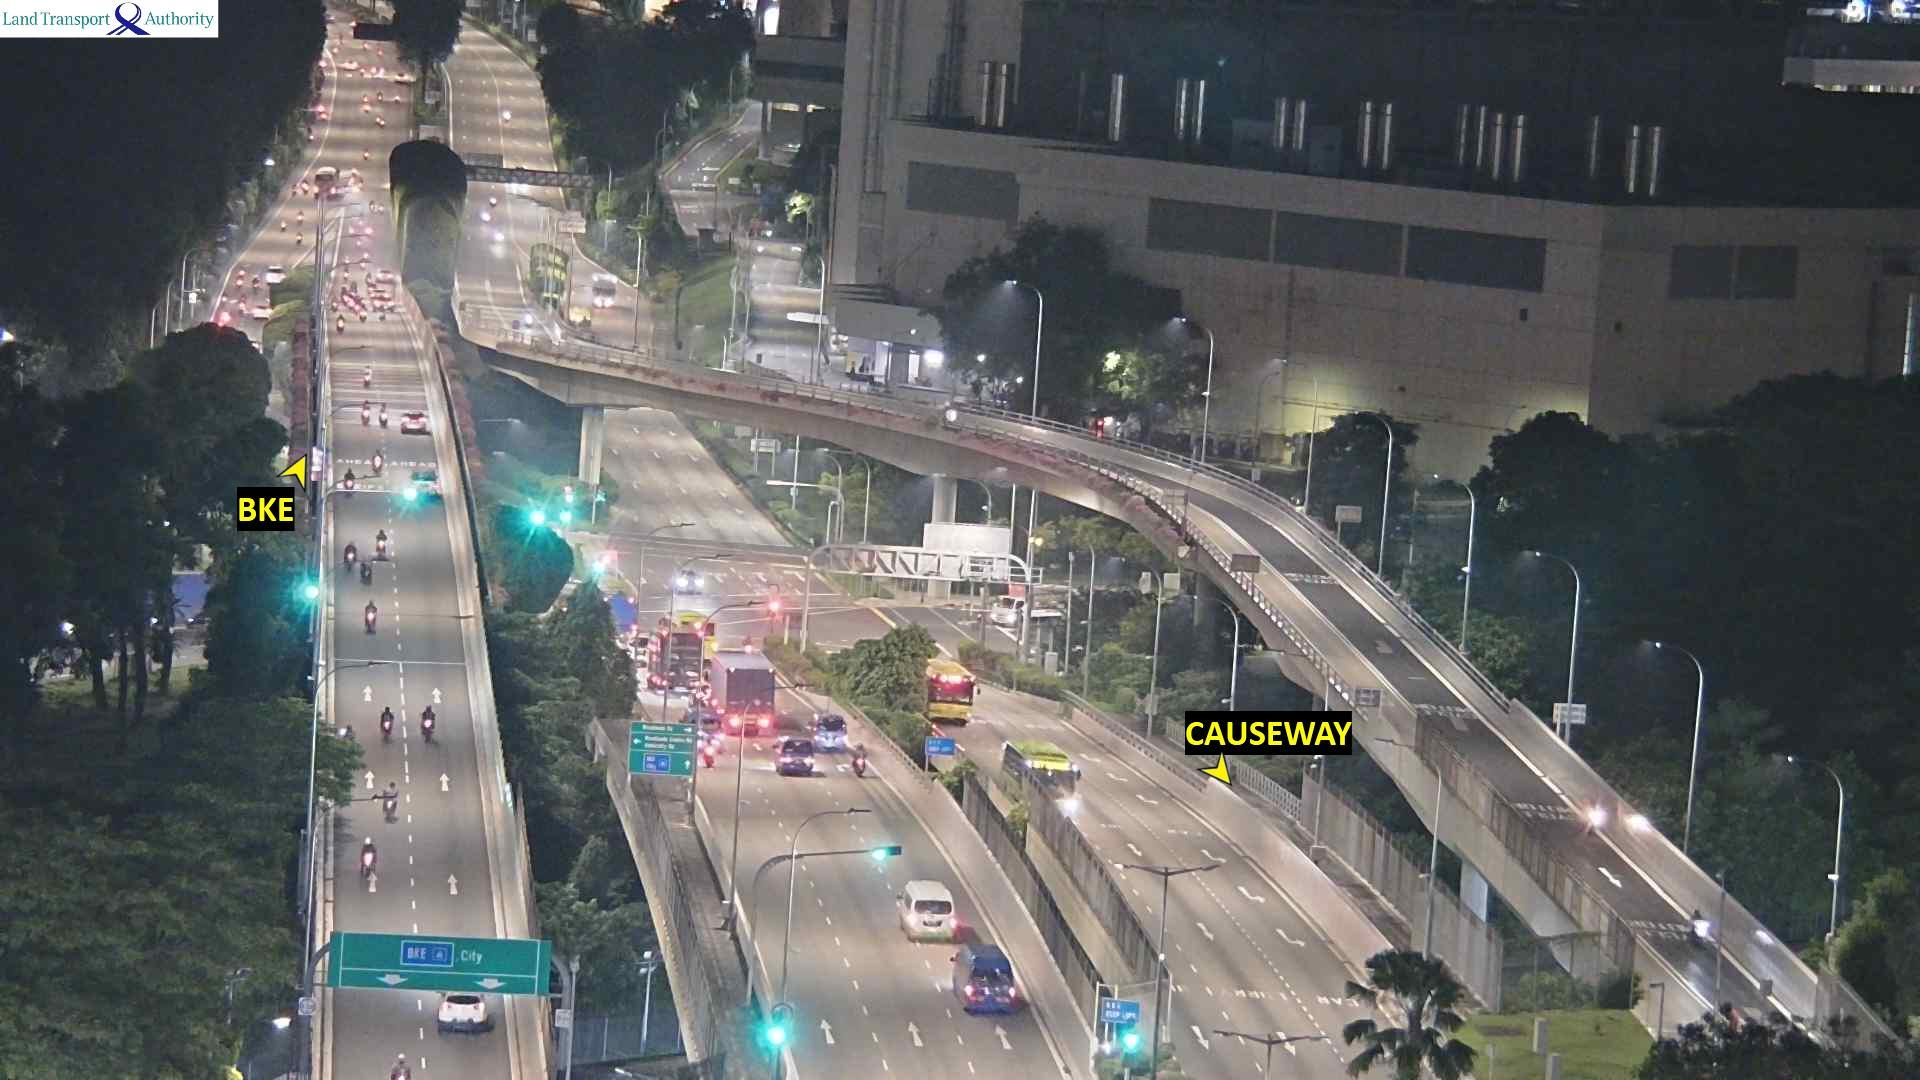vehicle-causeway-johor: (1004, 742, 1077, 807), (927, 657, 981, 727), (1584, 802, 1598, 833), (1691, 909, 1704, 941), (524, 309, 532, 326)
vehicle-causeway-singapore: (941, 928, 1018, 1013), (905, 880, 968, 941), (721, 664, 778, 715), (651, 634, 700, 691), (433, 994, 496, 1029), (781, 739, 811, 779), (811, 714, 843, 746), (408, 468, 439, 501), (385, 781, 398, 817), (853, 740, 867, 772), (405, 413, 426, 434), (423, 703, 435, 739), (382, 705, 393, 740), (362, 840, 372, 869), (376, 528, 385, 560), (343, 543, 354, 569), (361, 601, 371, 629), (374, 297, 393, 310), (361, 559, 371, 581), (374, 450, 383, 473), (380, 403, 388, 426), (343, 476, 352, 493), (358, 307, 367, 322), (362, 406, 370, 421), (364, 367, 371, 384), (334, 317, 343, 330), (376, 309, 385, 321), (332, 298, 338, 312), (356, 300, 363, 311)
